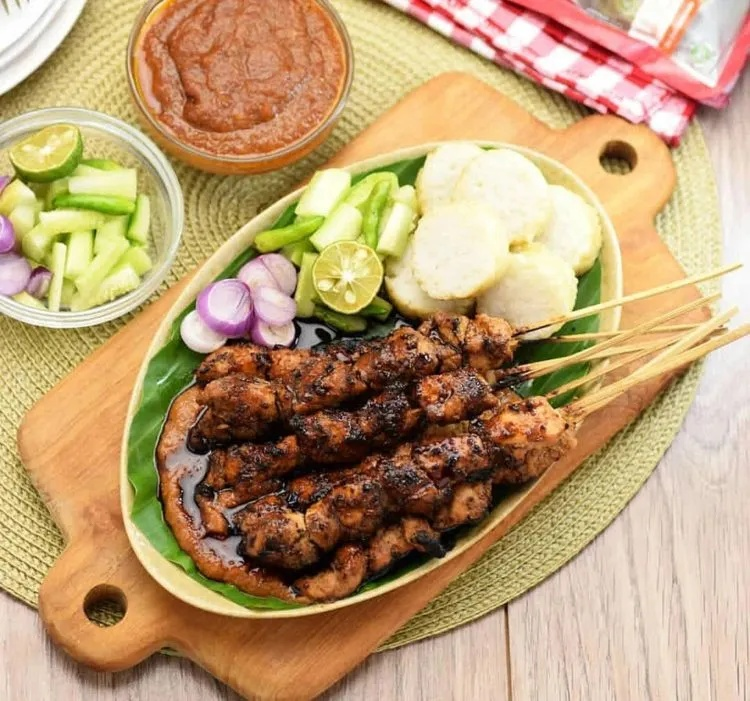sate: (240, 328, 750, 601)
